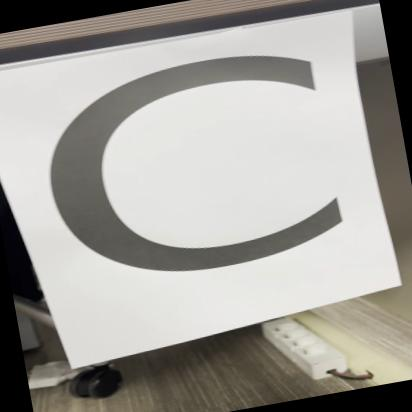seat: (0, 0, 409, 379)
